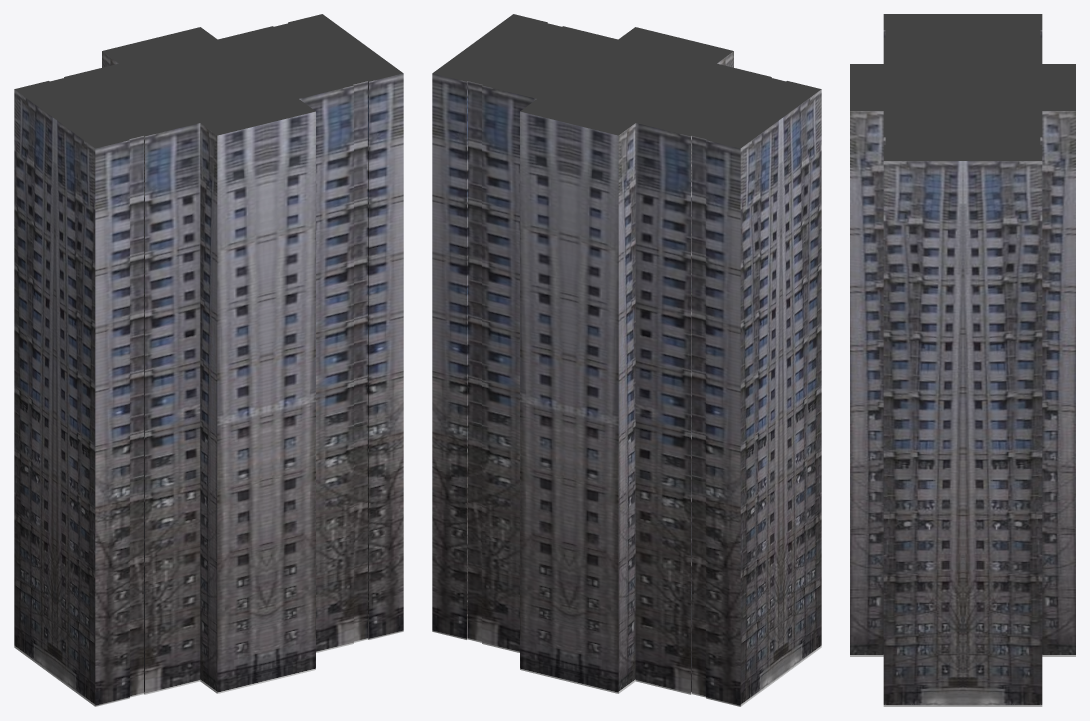
File: BLD-12.FBX
3 views of the same model, side by side, from view 1: azimuth 30°, elevation 25°; view 2: azimuth 150°, elevation 25°; view 3: azimuth 270°, elevation 25° (orthographic). The views are drawn at different scales.
Parts seen in each view (by area): view 1: BLD-Type-12-002; view 2: BLD-Type-12-002; view 3: BLD-Type-12-002.
Part boxes in pixels (left/top/right/bottom): BLD-Type-12-002: left=14, top=14, right=403, bottom=706; BLD-Type-12-002: left=432, top=14, right=821, bottom=706; BLD-Type-12-002: left=850, top=14, right=1075, bottom=706.
Size of the model in its own units: 15.4 by 26.67 by 10.
